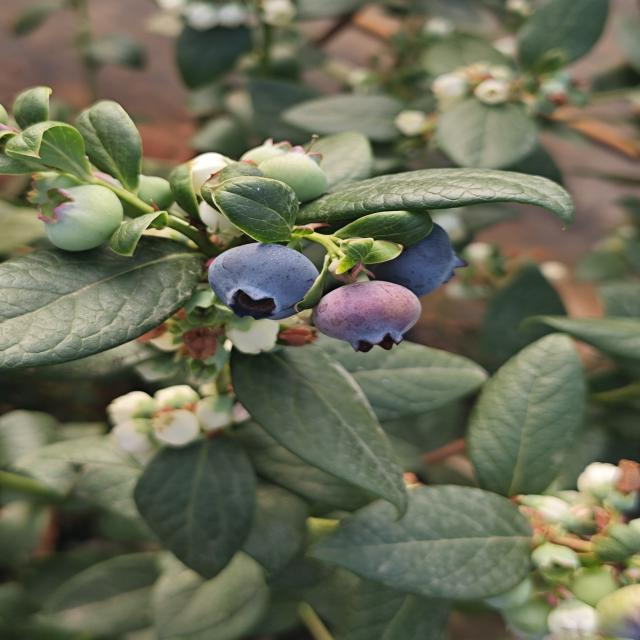ripe: (204, 240, 322, 323), (310, 279, 424, 354), (365, 220, 469, 300)
